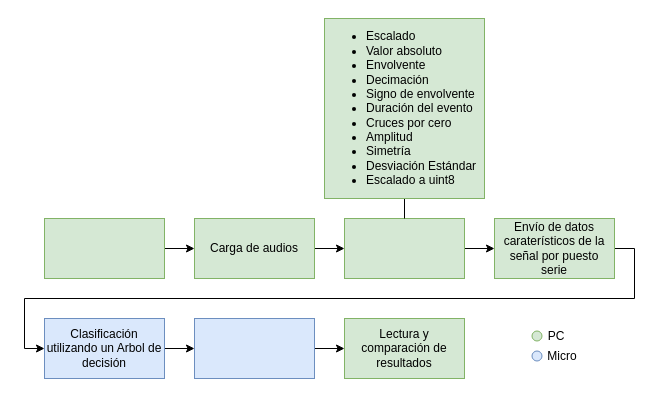
Some shapes in this 660 by 396 pixel diagram are drawn without their labels. The shapes that lost their labels are listed below. From the top down, each one's centre as x and y in pixels, then its label:
the point at 104,248: Carga de audios y etiquetas
the point at 404,248: Pre-procesamiento de datos
the point at 254,348: Envío de resultados por el puerto serie
